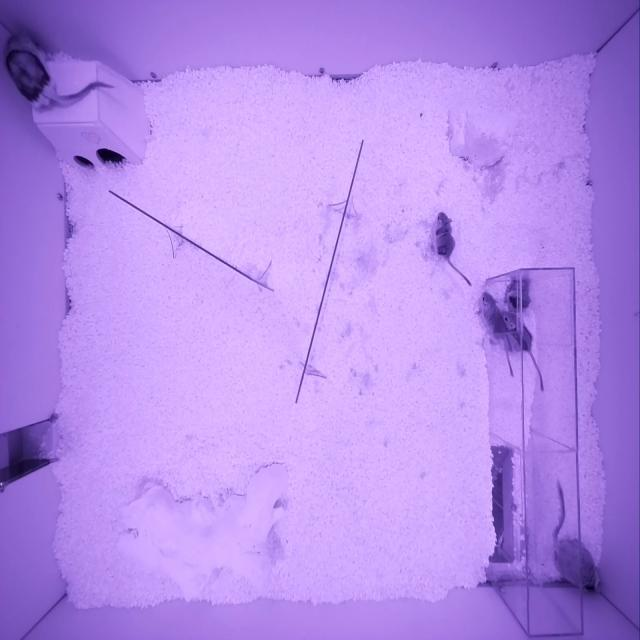adult_back: (5, 35, 56, 109)
adult_front: (553, 539, 600, 591)
pup_fluffy: (473, 292, 506, 345)
pup_h_stripe: (503, 281, 532, 312)
pup_spotted: (431, 211, 456, 261)
pup_v_stripe: (504, 310, 532, 353)
